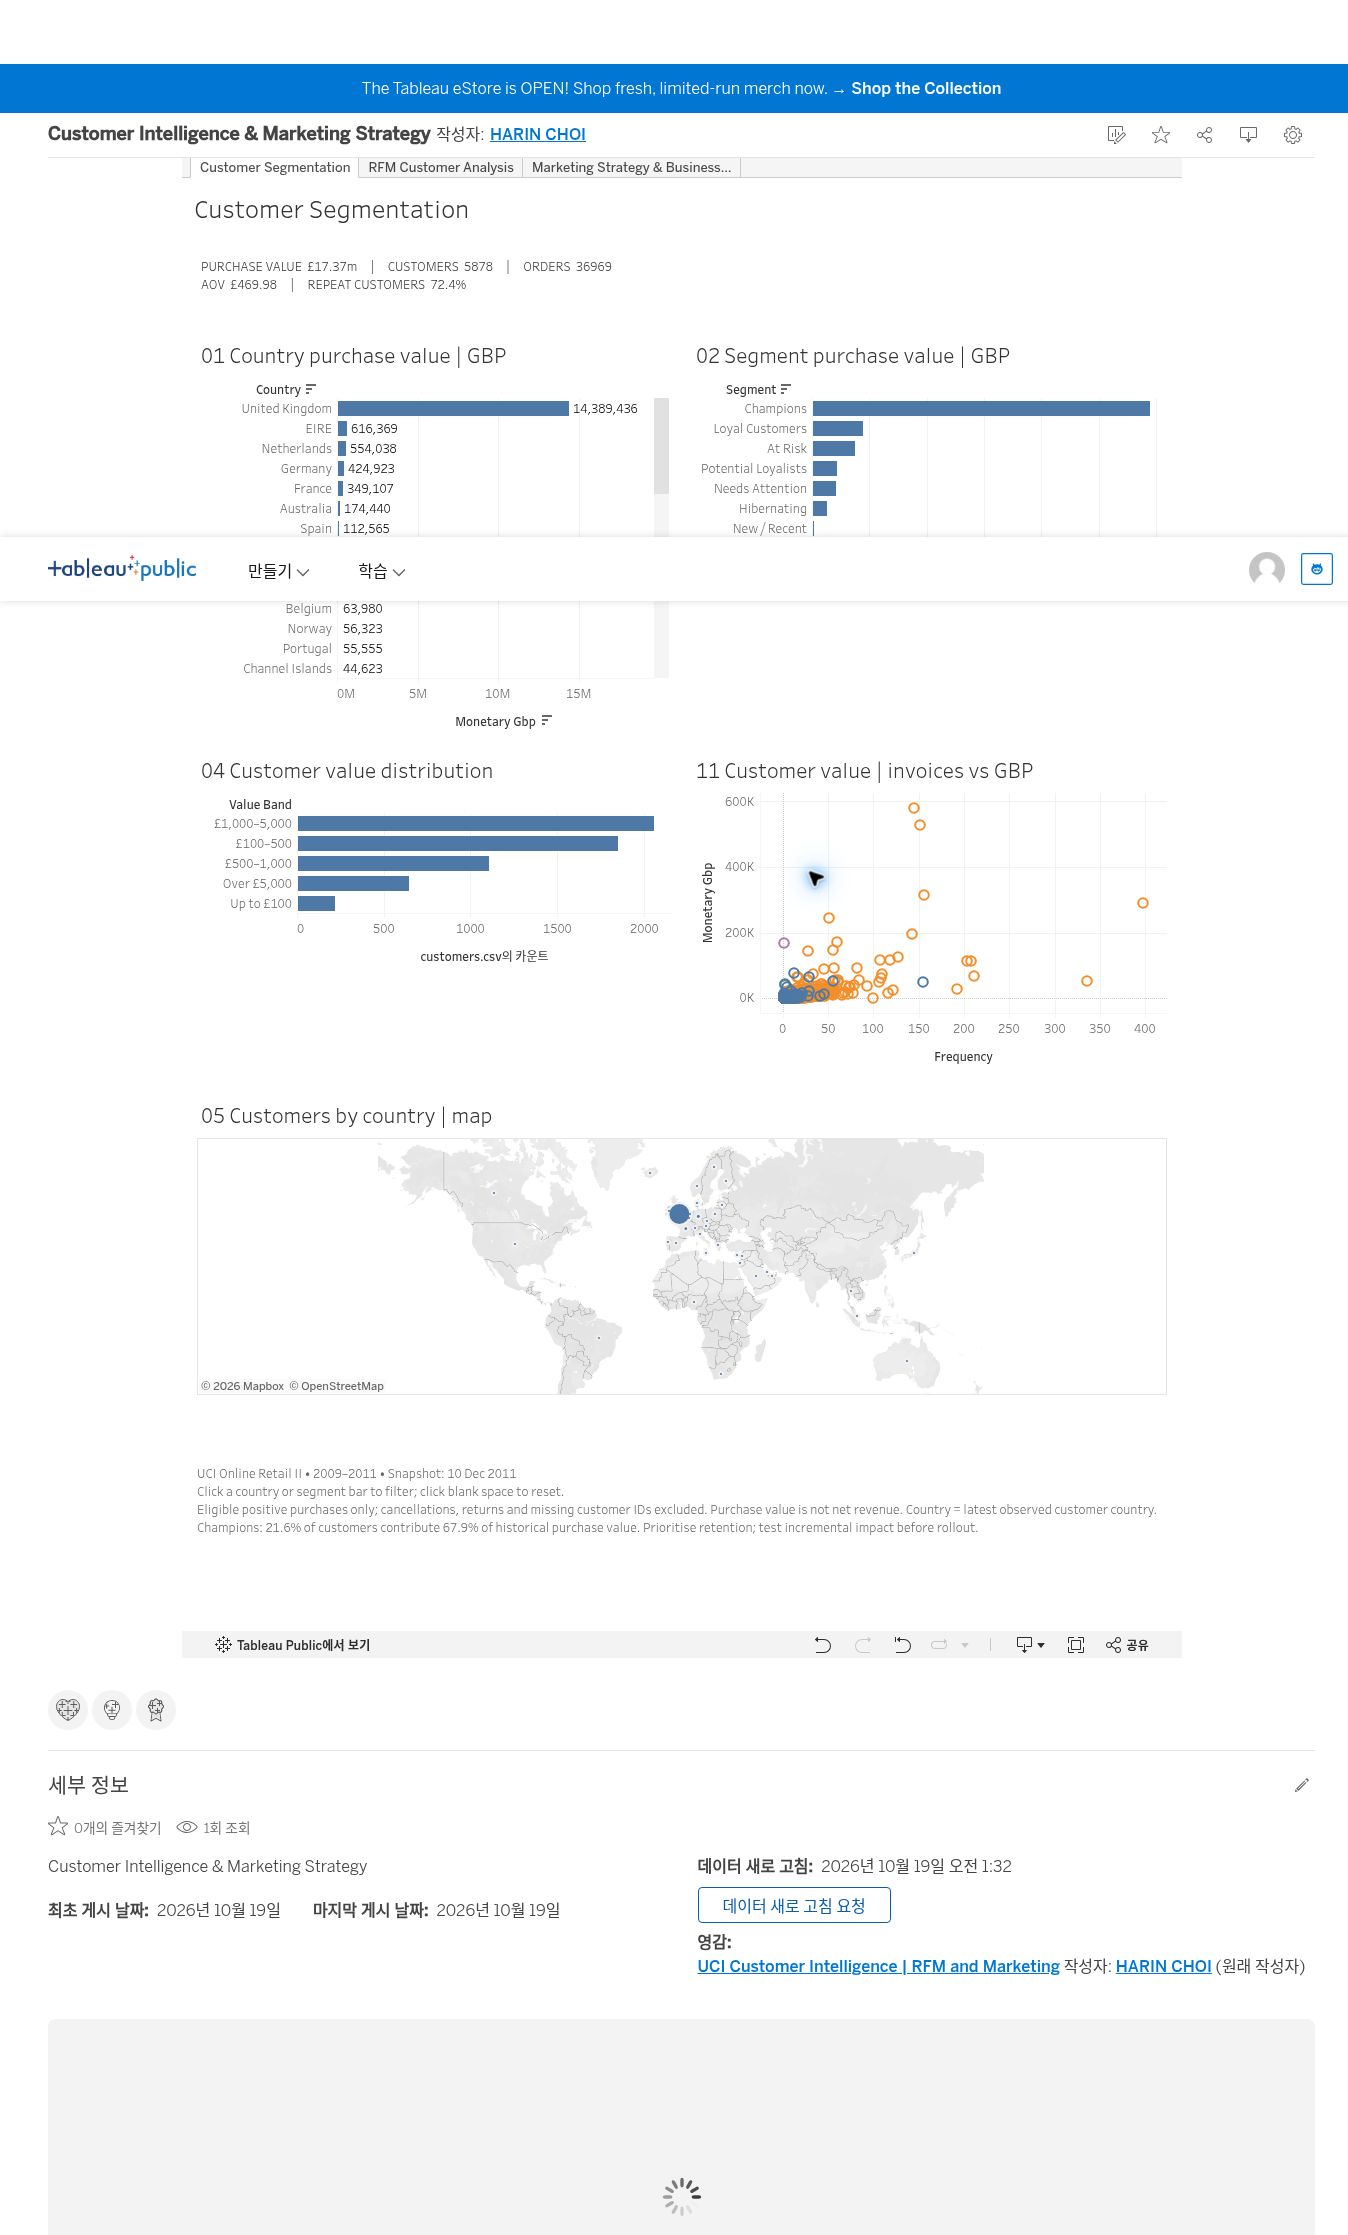

Layout of this report page (visuals, bound fields, positions):
{"tool":"tableau","page":{"name":"Customer Segmentation","canvas":[1000,1430],"ordinal":0},"visuals":[{"type":"title","box":[8,8,984,42]},{"type":"worksheet","title":"00 Executive KPIs | eligible purchases","mark":"Automatic","box":[15,45,970,100]},{"type":"worksheet","title":"01 Country purchase value | GBP","mark":"Automatic","rows":["country"],"cols":["monetary_gbp"],"box":[15,155,475,400]},{"type":"worksheet","title":"02 Segment purchase value | GBP","mark":"Automatic","rows":["segment"],"cols":["monetary_gbp"],"box":[510,155,475,400]},{"type":"worksheet","title":"04 Customer value distribution","mark":"Automatic","rows":["value_band"],"cols":["customers.csv_656A2521083E484D997BE7D8323A5DB3"],"box":[15,570,475,320]},{"type":"worksheet","title":"11 Customer value | invoices vs GBP","mark":"Automatic","rows":["monetary_gbp"],"cols":["frequency"],"box":[510,570,475,320]},{"type":"worksheet","title":"05 Customers by country | map","mark":"Automatic","box":[15,915,970,300]},{"type":"text","box":[15,1230,970,180]}]}

Visuals, with their boxes on the page's 1000x1430 design canvas (x1, y1, x2, y2). These are canvas units, not pixel positions in the 1348x2235 screenshot, which may show the page scaled, cropped or inside an application window:
title: bbox(8, 8, 992, 50)
"00 Executive KPIs | eligible purchases" worksheet: bbox(15, 45, 985, 145)
"01 Country purchase value | GBP" worksheet: bbox(15, 155, 490, 555)
"02 Segment purchase value | GBP" worksheet: bbox(510, 155, 985, 555)
"04 Customer value distribution" worksheet: bbox(15, 570, 490, 890)
"11 Customer value | invoices vs GBP" worksheet: bbox(510, 570, 985, 890)
"05 Customers by country | map" worksheet: bbox(15, 915, 985, 1215)
text: bbox(15, 1230, 985, 1410)
